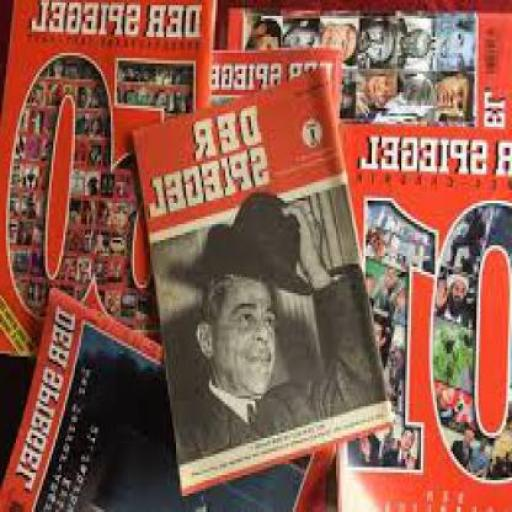paper: (134, 64, 395, 496), (1, 0, 220, 354), (2, 285, 341, 509), (342, 116, 511, 510), (219, 0, 511, 122)
